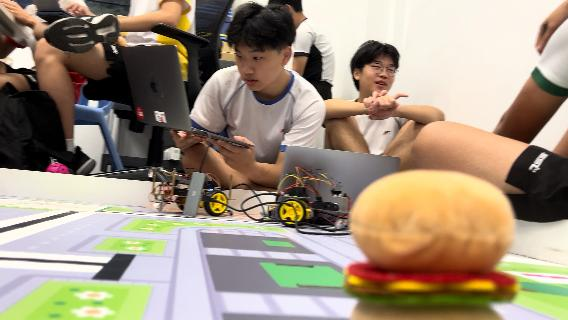burger: (340, 168, 520, 320)
